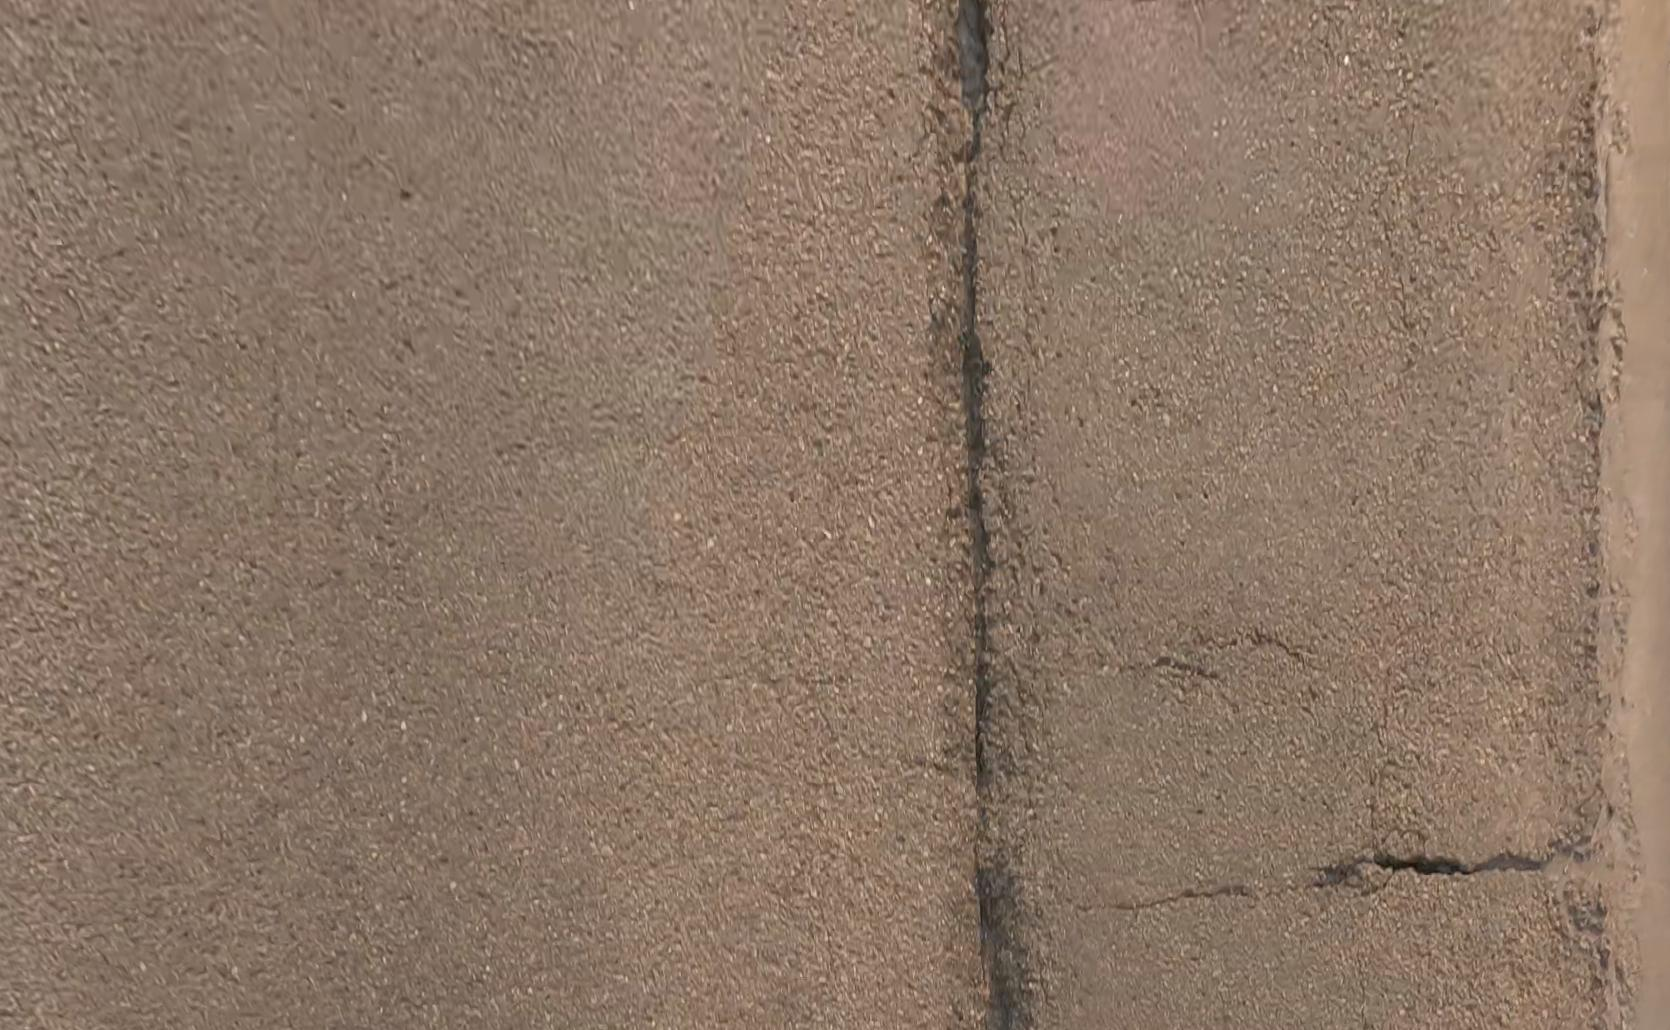pothole: (978, 861, 1034, 1030), (939, 0, 997, 129), (1528, 832, 1632, 893)
